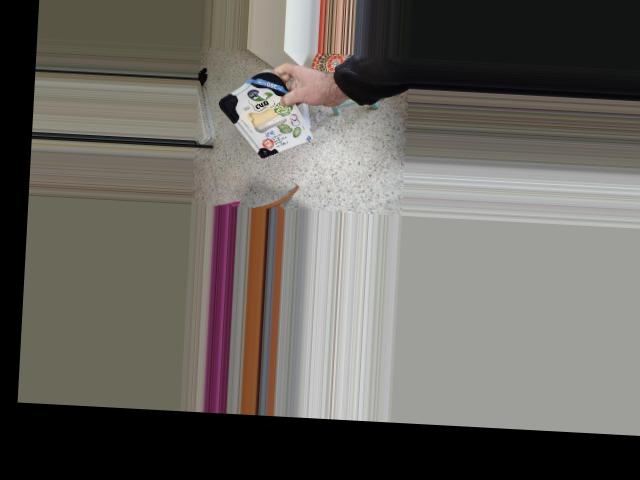cheese: (217, 65, 309, 169)
